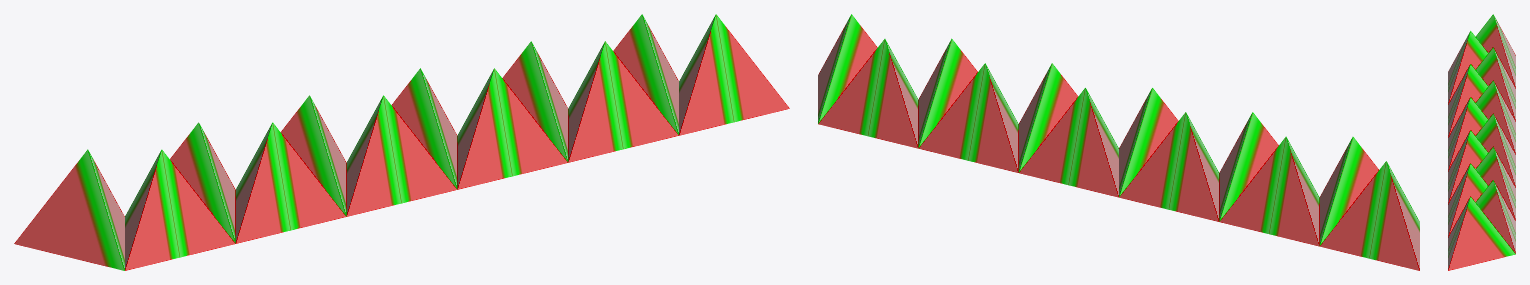
File: compu_tri.fbx
3 views of the same model, side by side, from view 1: azimuth 30°, elevation 25°; view 2: azimuth 150°, elevation 25°; view 3: azimuth 270°, elevation 25° (orthographic). The views are drawn at different scales.
Visible parts, largest first — view 1: Platonic_1_2, Platonic_2_2, Platonic_3_2, Platonic_4_2, Platonic_5, Platonic_5_2, Platonic_2_3, Platonic_1, Platonic_2, Platonic_3, Platonic_4, Platonic; view 2: Platonic_3, Platonic, Platonic_4, Platonic_1, Platonic_5, Platonic_2, Platonic_3_2, Platonic_2_3, Platonic_4_2, Platonic_1_2, Platonic_5_2, Platonic_2_2; view 3: Platonic_5_2, Platonic, Platonic_3, Platonic_2, Platonic_1, Platonic_4, Platonic_4_2, Platonic_3_2, Platonic_5, Platonic_2_2, Platonic_2_3, Platonic_1_2.
Part boxes in pixels (x1,y1,x2,y2): Platonic_1_2: [235, 122, 346, 243]; Platonic_2_2: [346, 95, 456, 216]; Platonic_3_2: [457, 68, 567, 189]; Platonic_4_2: [568, 41, 678, 162]; Platonic_5: [14, 149, 124, 270]; Platonic_5_2: [679, 14, 789, 135]; Platonic_2_3: [125, 149, 235, 270]; Platonic_1: [502, 41, 568, 162]; Platonic_2: [391, 68, 457, 189]; Platonic_3: [280, 95, 346, 216]; Platonic_4: [170, 122, 235, 243]; Platonic: [613, 14, 678, 134]; Platonic_3: [1119, 112, 1219, 221]; Platonic: [818, 39, 918, 148]; Platonic_4: [1219, 136, 1319, 246]; Platonic_1: [918, 63, 1018, 172]; Platonic_5: [1320, 161, 1419, 270]; Platonic_2: [1019, 88, 1118, 197]; Platonic_3_2: [1018, 63, 1078, 172]; Platonic_2_3: [1319, 137, 1378, 245]; Platonic_4_2: [918, 38, 977, 148]; Platonic_1_2: [1219, 112, 1278, 221]; Platonic_5_2: [818, 14, 877, 123]; Platonic_2_2: [1119, 88, 1178, 196]; Platonic_5_2: [1448, 196, 1515, 270]; Platonic: [1475, 180, 1515, 253]; Platonic_3: [1475, 80, 1515, 154]; Platonic_2: [1475, 113, 1515, 187]; Platonic_1: [1475, 147, 1515, 220]; Platonic_4: [1476, 47, 1515, 121]; Platonic_4_2: [1448, 163, 1487, 237]; Platonic_3_2: [1448, 130, 1488, 203]; Platonic_5: [1475, 14, 1515, 87]; Platonic_2_2: [1448, 97, 1488, 170]; Platonic_2_3: [1448, 31, 1488, 104]; Platonic_1_2: [1448, 64, 1488, 137].
Bounding box in the file's own units: 1061 × 133 × 141.
12 materials, 12 textured.
